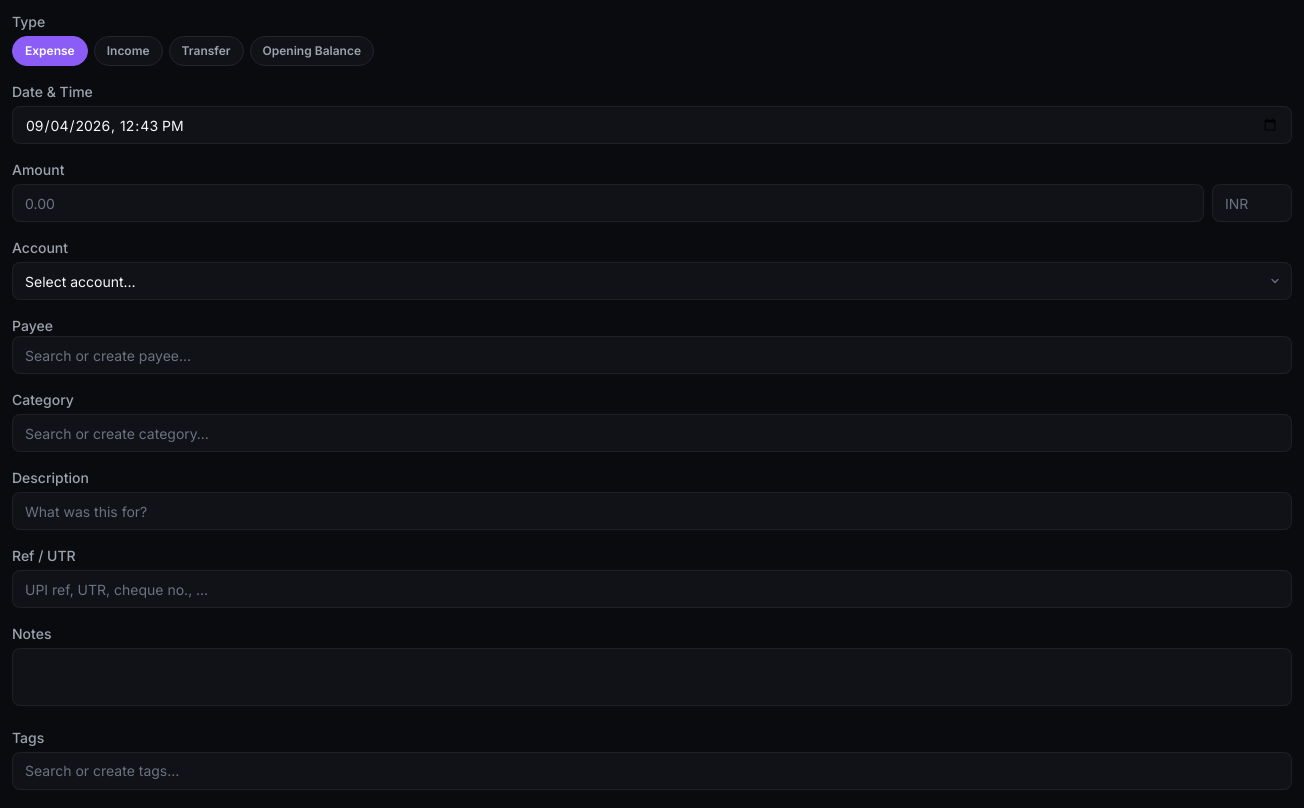
Test case: TransactionForm component › shows info for opening balance and hides tags/payees/categories
Click the button "Opening Balance" at (312, 51), box [250,36,374,66]
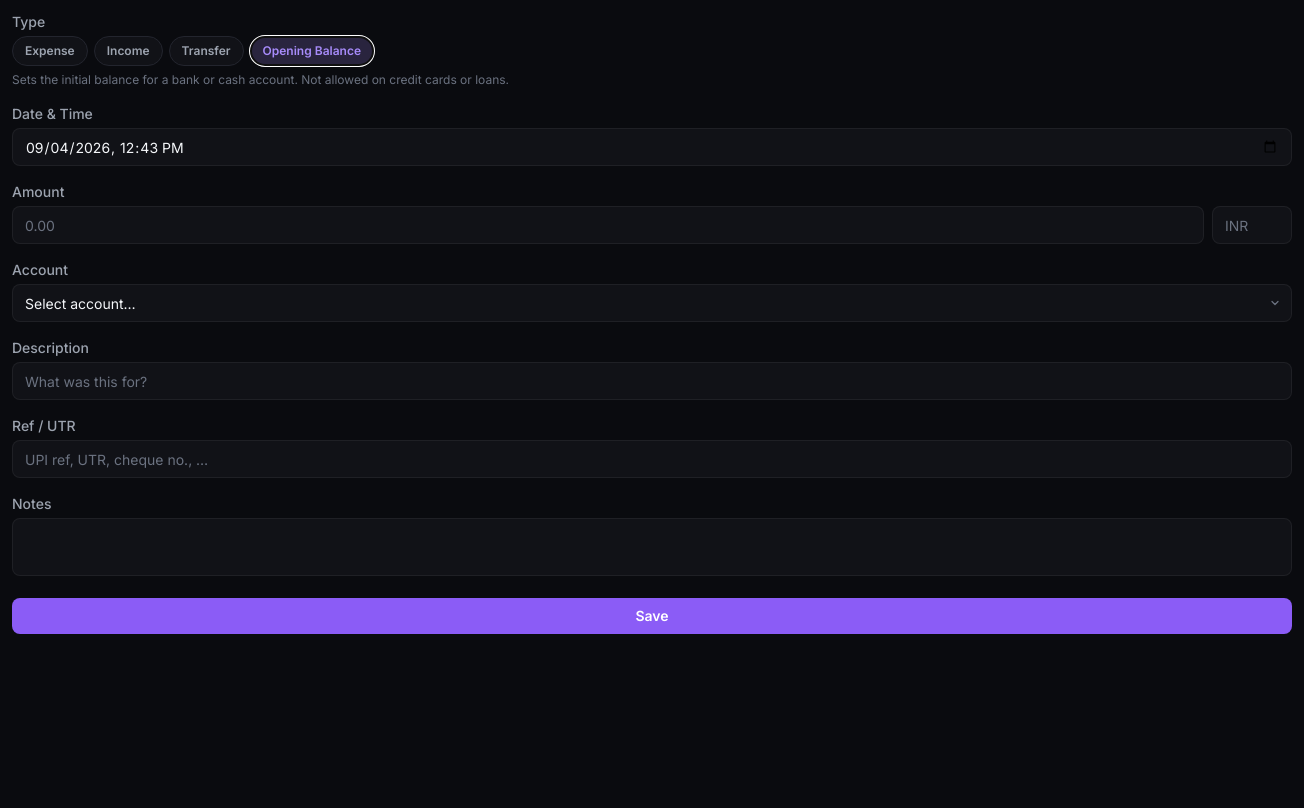
Expected: the text "Sets the initial balance" is shown, [12,72,509,87]
Expected: the label labelled "Payee" is gone
Expected: the text "Tags" is gone
